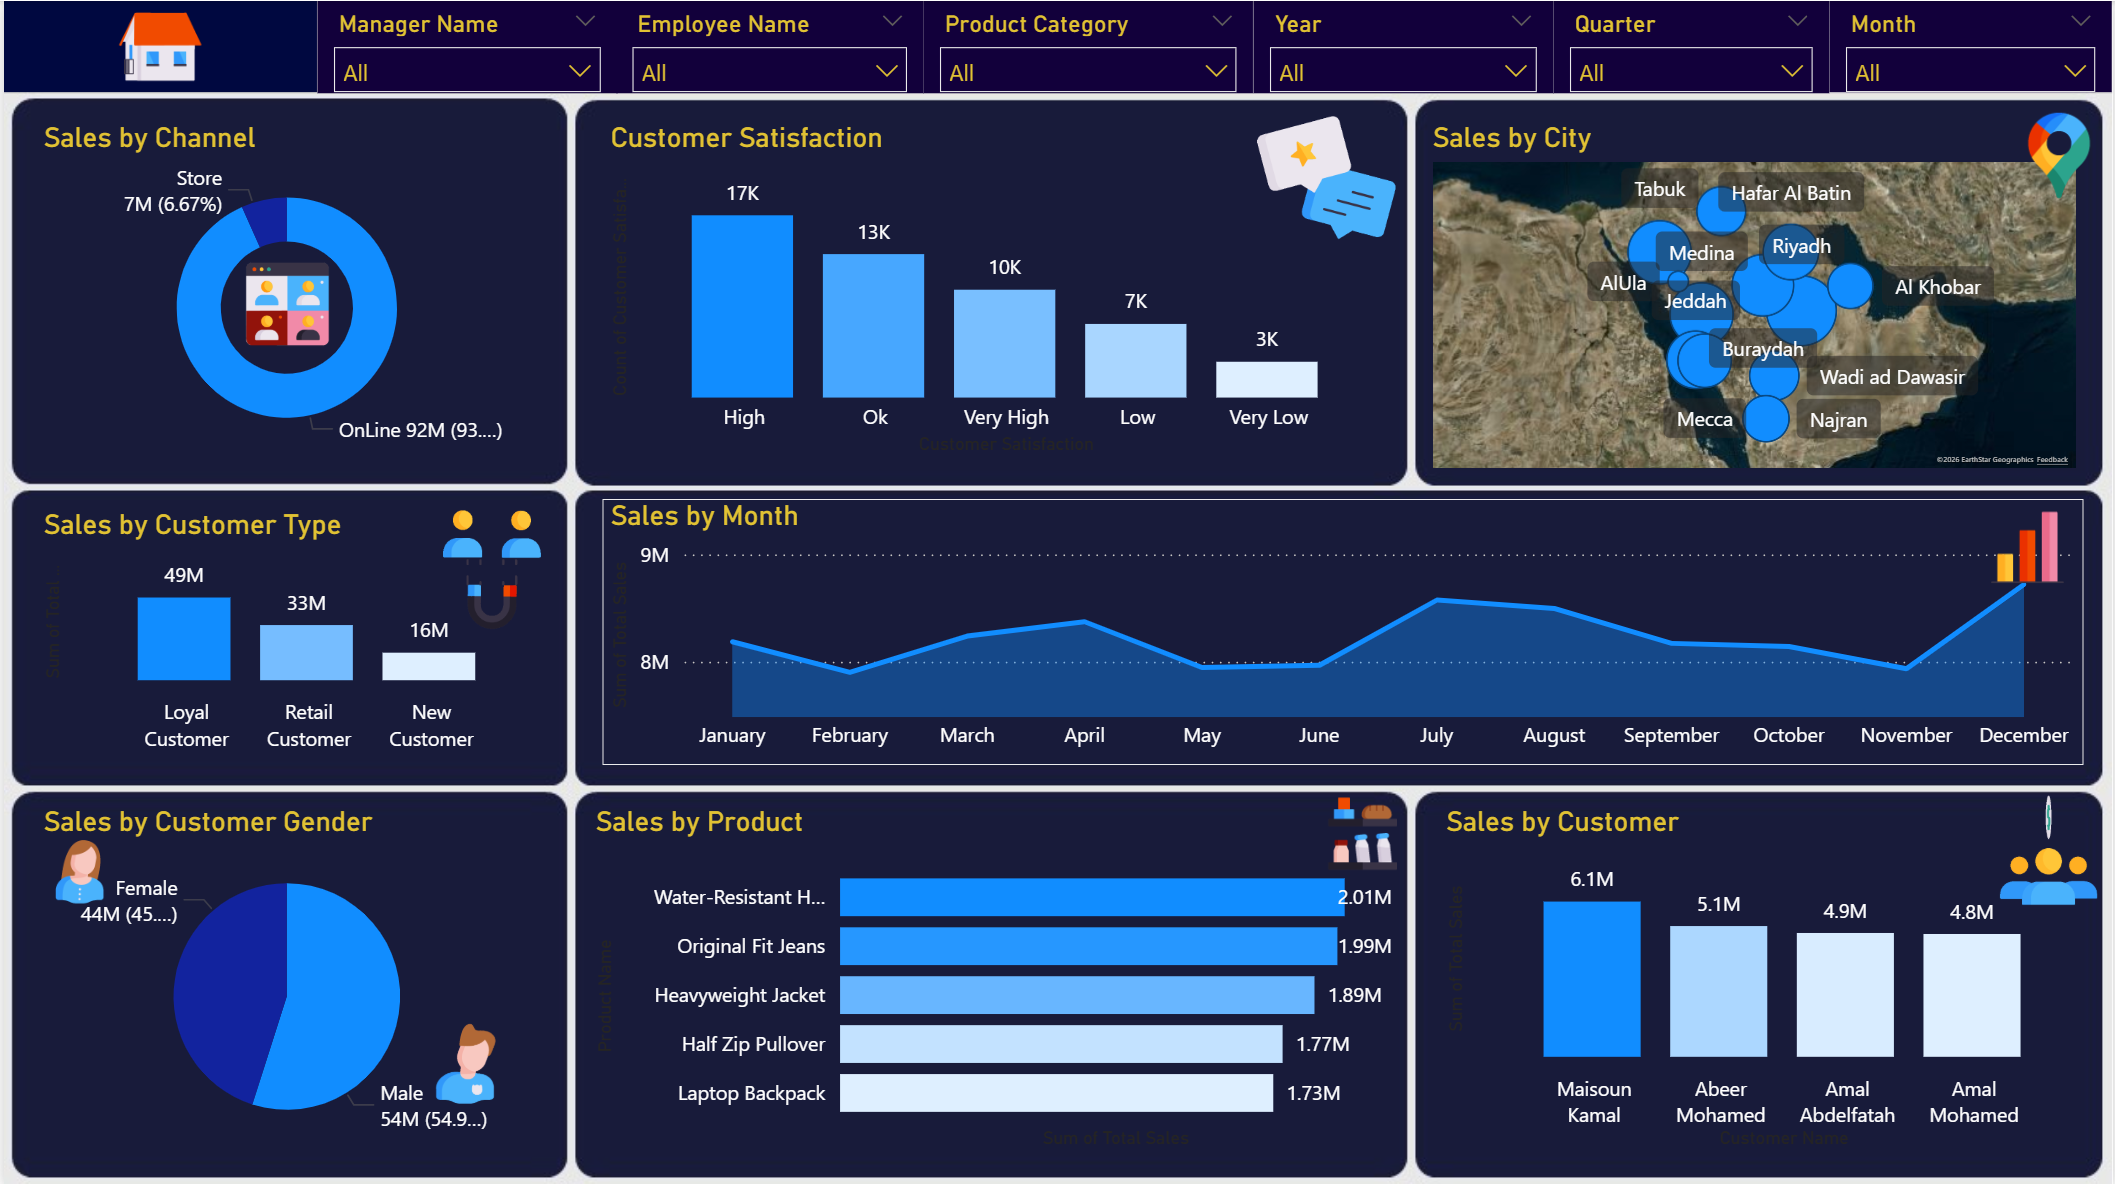

What the dashboard file says about the page in this screenshot:
{"tool":"powerbi","page":{"name":"Page ١","canvas":[1280,720],"ordinal":0},"visuals":[{"type":"azureMap","title":"Sales by City","fields":{"Category":["Sales Data.City"],"Size":["Sum(Sales Data.Total Sales)"]},"box":[861.9,73.3,400.5,215.7],"z":0},{"type":"donutChart","title":"Sales by Channel","fields":{"Category":["Sales Data.Channel"],"Y":["Sum(Sales Data.Total Sales)"]},"box":[19.1,72.8,304.5,206.6],"z":1000},{"type":"clusteredColumnChart","title":"Customer Satisfaction","fields":{"Category":["Sales Data.Customer Satisfaction"],"Y":["CountNonNull(Sales Data.Customer Satisfaction)"]},"box":[363,72.8,472.8,206.6],"z":2000},{"type":"clusteredColumnChart","title":"Sales by Customer Type","fields":{"Category":["Sales Data.Customer Type"],"Y":["Sum(Sales Data.Total Sales)"]},"box":[19.1,308.1,304.5,155.2],"z":3000},{"type":"lineChart","title":"Sales by Month","fields":{"Category":["Sales Data.Invoice Date.Variation.Date Hierarchy.Month"],"Y":["Sum(Sales Data.Total Sales)"]},"box":[363.4,302.5,899.1,161],"z":4000},{"type":"pieChart","title":"Sales by Customer Gender","fields":{"Category":["Sales Data.Customer Gender"],"Y":["Sum(Sales Data.Total Sales)"]},"box":[19.1,488.4,304.5,212.5],"z":5000},{"type":"clusteredBarChart","title":"Sales by Product","fields":{"Category":["Sales Data.Product Name"],"Y":["Sum(Sales Data.Total Sales)"]},"box":[354,488.2,493,212.7],"z":6000},{"type":"clusteredColumnChart","title":"Sales by Customer","fields":{"Category":["Sales Data.Customer Name"],"Y":["Sum(Sales Data.Total Sales)"]},"box":[870.4,488.4,391.6,212.5],"z":7000},{"type":"slicer","fields":{"Values":["Sales Data.Manager Name"]},"box":[189.9,0,181.7,55.7],"z":8000},{"type":"slicer","fields":{"Values":["Sales Data.Employee Name"]},"box":[371.6,0,186.8,55.7],"z":9000},{"type":"slicer","fields":{"Values":["Sales Data.Product Category"]},"box":[558.5,0,200.3,55.7],"z":10000},{"type":"slicer","fields":{"Values":["Sales Data.Invoice Date.Variation.Date Hierarchy.Quarter"]},"box":[940.4,0,167.2,55.7],"z":11000},{"type":"slicer","fields":{"Values":["Sales Data.Invoice Date.Variation.Date Hierarchy.Year"]},"box":[758.7,0,181.7,55.7],"z":12000},{"type":"slicer","fields":{"Values":["Sales Data.Invoice Date.Variation.Date Hierarchy.Month"]},"box":[1108,0,171.6,55.6],"z":13000},{"type":"image","box":[1194.3,302.5,67.1,57.8],"z":14000},{"type":"image","box":[242.6,614.2,75.4,61.9],"z":15000},{"type":"image","box":[11.4,501.7,70.2,51.6],"z":16000},{"type":"image","box":[758.7,38.2,88.8,129],"z":17000},{"type":"image","box":[1217,64,61.9,58.8],"z":18000},{"type":"image","box":[791.7,476.9,55.7,57.8],"z":19000},{"type":"image","box":[138.3,122.8,67.1,121.8],"z":20000},{"type":"image","box":[238.5,301.4,115.6,84.6],"z":21000},{"type":"image","box":[1202.6,476.9,76.4,77.4],"z":22000},{"type":"image","box":[0,0,189.7,55.6],"z":23000}]}

Visuals, with their boxes in screenshot pixels (x1, y1, x2, y2), scaled from the page's 1280x720 canvas onto the 2115x1184 screenshot:
"Sales by City" azureMap: (x1=1424, y1=121, x2=2086, y2=475)
"Sales by Channel" donutChart: (x1=32, y1=120, x2=535, y2=459)
"Customer Satisfaction" clusteredColumnChart: (x1=600, y1=120, x2=1381, y2=459)
"Sales by Customer Type" clusteredColumnChart: (x1=32, y1=507, x2=535, y2=762)
"Sales by Month" lineChart: (x1=600, y1=497, x2=2086, y2=762)
"Sales by Customer Gender" pieChart: (x1=32, y1=803, x2=535, y2=1153)
"Sales by Product" clusteredBarChart: (x1=585, y1=803, x2=1400, y2=1153)
"Sales by Customer" clusteredColumnChart: (x1=1438, y1=803, x2=2085, y2=1153)
slicer - Sales Data.Manager Name: (x1=314, y1=0, x2=614, y2=92)
slicer - Sales Data.Employee Name: (x1=614, y1=0, x2=923, y2=92)
slicer - Sales Data.Product Category: (x1=923, y1=0, x2=1254, y2=92)
slicer - Sales Data.Invoice Date.Variation.Date Hierarchy.Quarter: (x1=1554, y1=0, x2=1830, y2=92)
slicer - Sales Data.Invoice Date.Variation.Date Hierarchy.Year: (x1=1254, y1=0, x2=1554, y2=92)
slicer - Sales Data.Invoice Date.Variation.Date Hierarchy.Month: (x1=1831, y1=0, x2=2114, y2=91)
image: (x1=1973, y1=497, x2=2084, y2=592)
image: (x1=401, y1=1010, x2=525, y2=1112)
image: (x1=19, y1=825, x2=135, y2=910)
image: (x1=1254, y1=63, x2=1400, y2=275)
image: (x1=2011, y1=105, x2=2113, y2=202)
image: (x1=1308, y1=784, x2=1400, y2=879)
image: (x1=229, y1=202, x2=339, y2=402)
image: (x1=394, y1=496, x2=585, y2=635)
image: (x1=1987, y1=784, x2=2113, y2=912)
image: (x1=0, y1=0, x2=313, y2=91)
